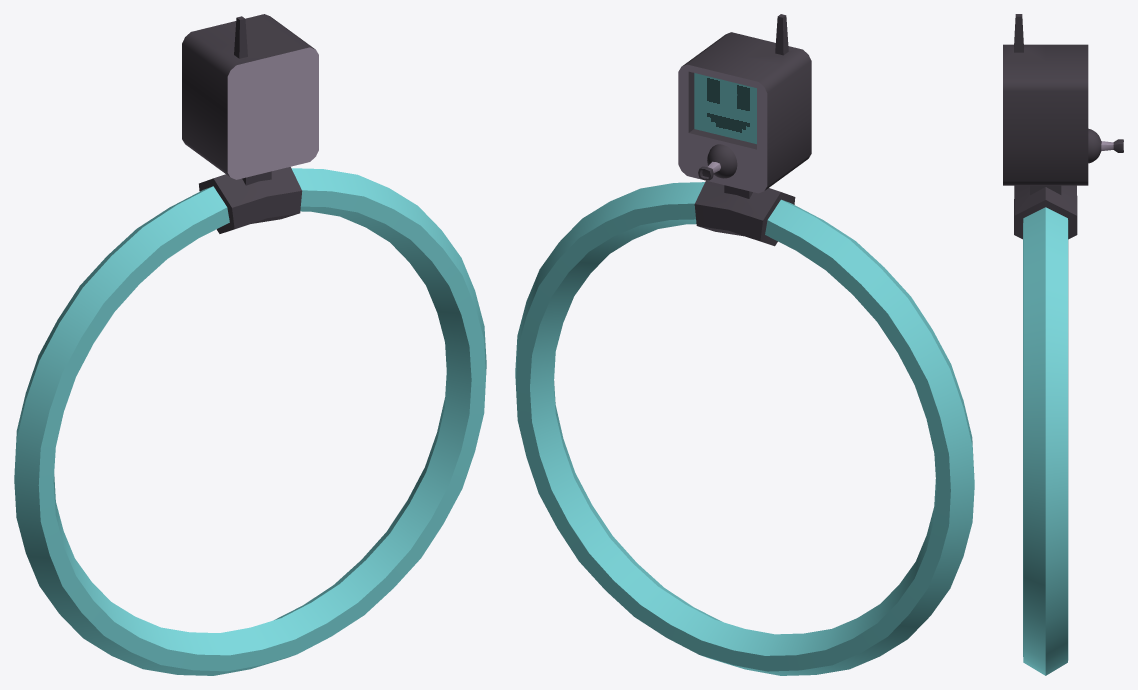
The model's file is aro.fbx.
3 views of the same model, side by side, from view 1: azimuth 30°, elevation 25°; view 2: azimuth 150°, elevation 25°; view 3: azimuth 270°, elevation 25° (orthographic). The views are drawn at different scales.
Visible parts, largest first — view 1: aro, enemigo; view 2: aro, enemigo, pistola; view 3: aro, enemigo, pistola.
Part boxes in pixels (<box>): aro: <box>14,168,486,675</box>; enemigo: <box>182,14,318,233</box>; aro: <box>515,182,974,675</box>; enemigo: <box>678,14,811,246</box>; pistola: <box>698,144,737,180</box>; aro: <box>1023,207,1068,675</box>; enemigo: <box>1003,14,1088,239</box>; pistola: <box>1088,128,1123,163</box>.
Size of the model in its own units: 280 by 377 by 66.09.
1 material, 1 textured.
